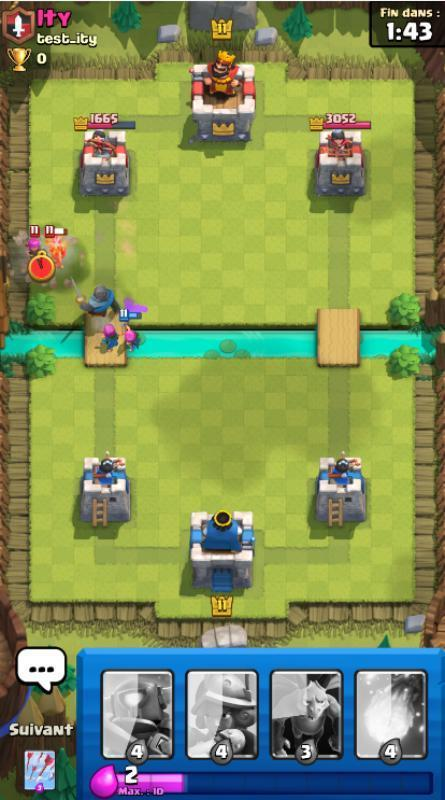enemy_archers: (21, 230, 47, 270)
player_archers: (118, 320, 148, 354), (96, 320, 121, 352)
player_knight: (66, 270, 124, 318)
